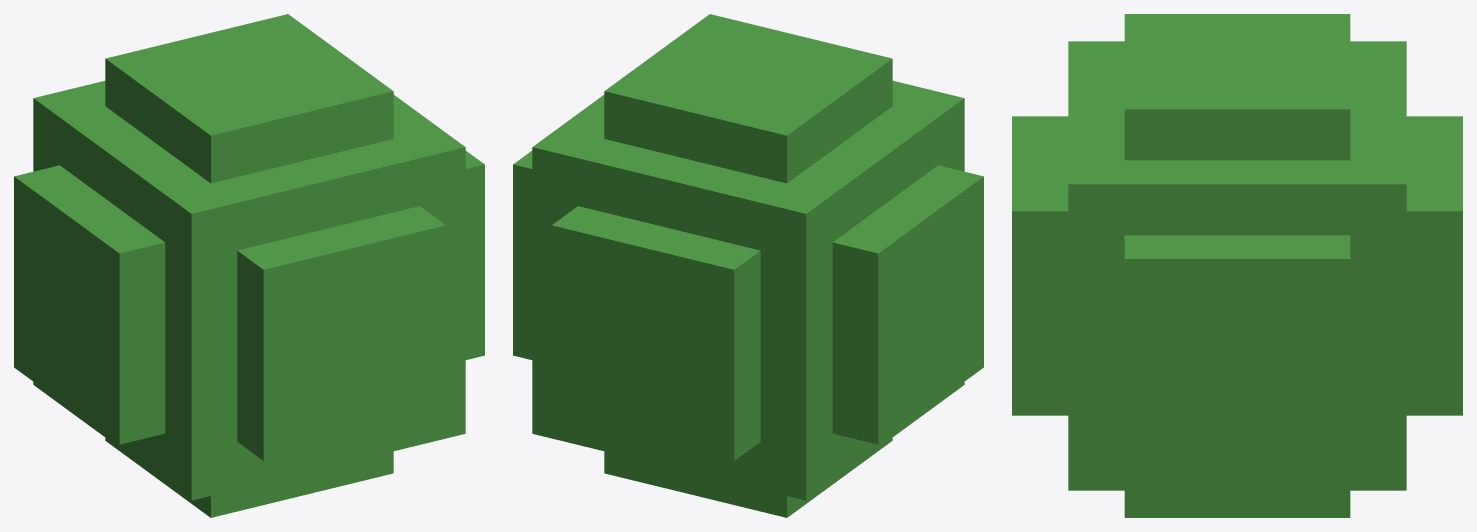
The model's file is proyectil_torreta.dae.
The picture shows the model from 3 angles, left to right: view 1: azimuth 30°, elevation 25°; view 2: azimuth 150°, elevation 25°; view 3: azimuth 270°, elevation 25°; orthographic projection. The views are drawn at different scales.
Visible parts, largest first — view 1: proyectil_torreta; view 2: proyectil_torreta; view 3: proyectil_torreta.
Part boxes in pixels (bbox=[...]): proyectil_torreta: bbox=[14, 14, 484, 517]; proyectil_torreta: bbox=[513, 14, 983, 517]; proyectil_torreta: bbox=[1012, 14, 1462, 517].
Size of the model in its own units: 8 by 8 by 8.
1 material, 1 textured.
